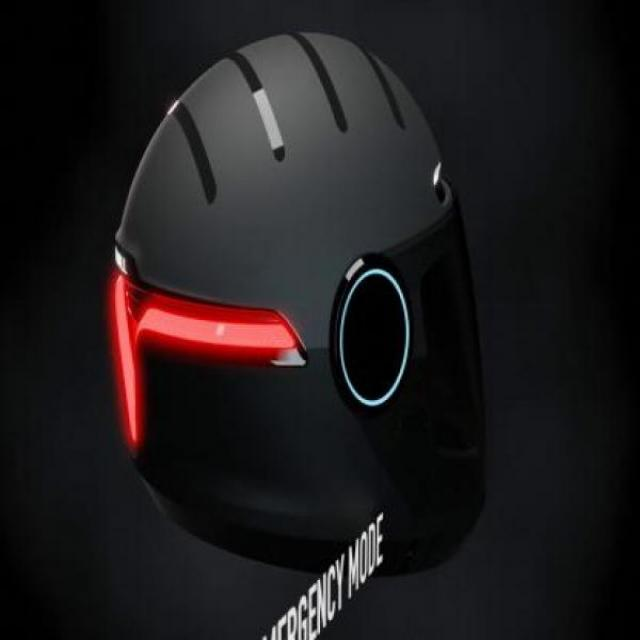Helmet: (117, 30, 491, 552)
